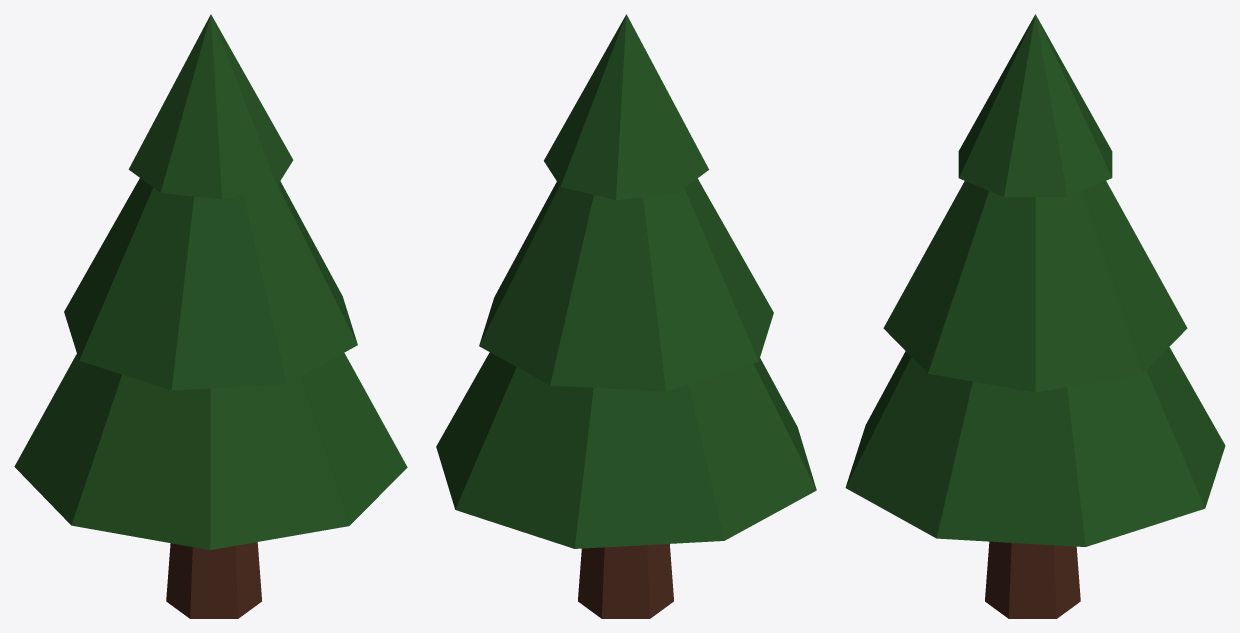
Rendered from pinetree.fbx.
3 renders of one model, left to right at view 1: azimuth 30°, elevation 25°; view 2: azimuth 150°, elevation 25°; view 3: azimuth 270°, elevation 25°, orthographic.
Visible parts, largest first — view 1: gran; view 2: gran; view 3: gran.
Boxes of the visible parts, <box> form: gran: <box>14,14,407,618</box>; gran: <box>436,14,816,618</box>; gran: <box>845,14,1225,618</box>.
Size of the model in its own units: 5.42 by 9.24 by 5.42.
